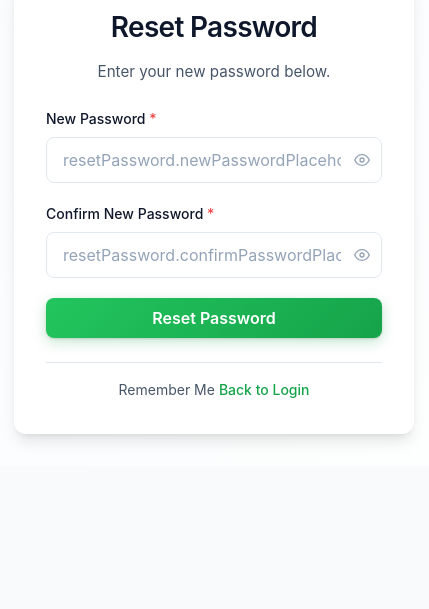
ResetPasswordPage › password mismatch › shows error when passwords do not match
The width and height of the screenshot is (429, 609).
Step 1. Type "Password1" into the password field labelled "New Password" → coordinates (214, 160), box [46,137,382,183]
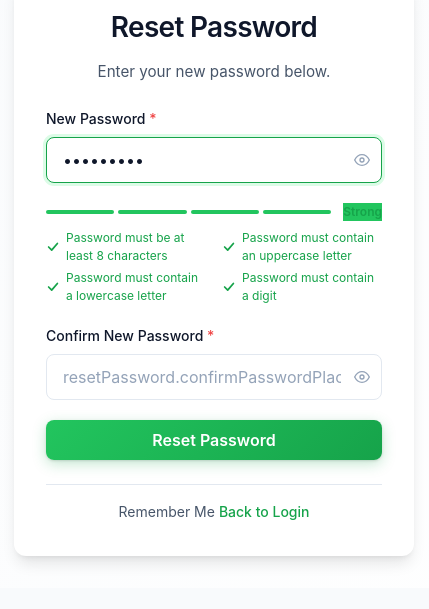
Step 2. Type "Password2" into the password field labelled "Confirm New Password" → coordinates (214, 377), box [46,354,382,400]
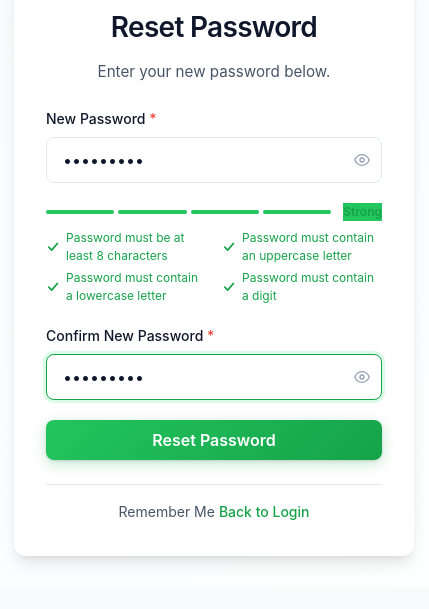
Step 3. Click the button "Reset Password" → coordinates (214, 440), box [46,420,382,460]
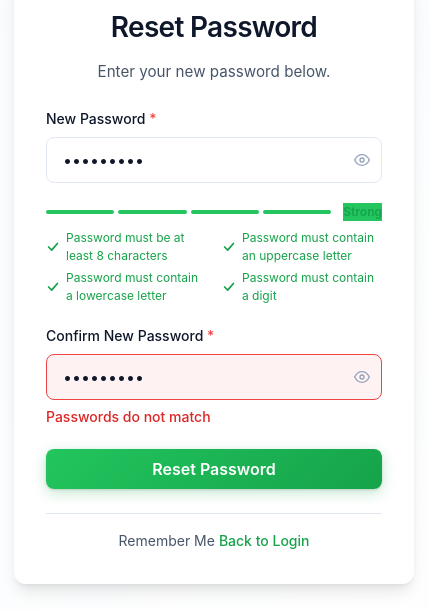
Check: the text "Passwords do not match" is shown, box [46,408,211,425]
